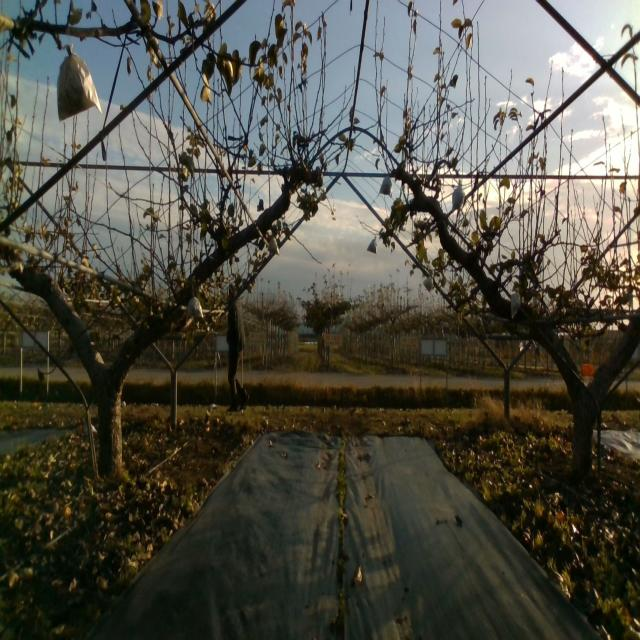pearbags: (56, 42, 101, 124), (226, 282, 250, 415), (186, 294, 202, 324), (509, 288, 522, 320), (452, 186, 464, 213), (379, 177, 392, 198), (267, 237, 280, 256), (422, 274, 434, 293), (367, 235, 378, 254)
